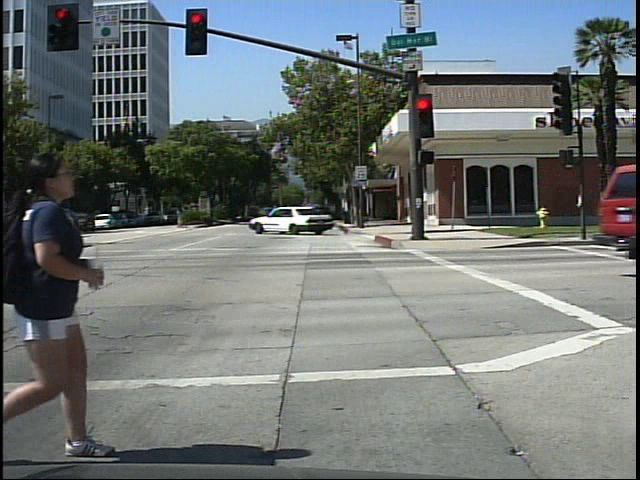person: (4, 138, 122, 466)
